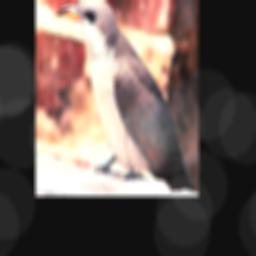Cuckoo: (57, 0, 195, 193)
